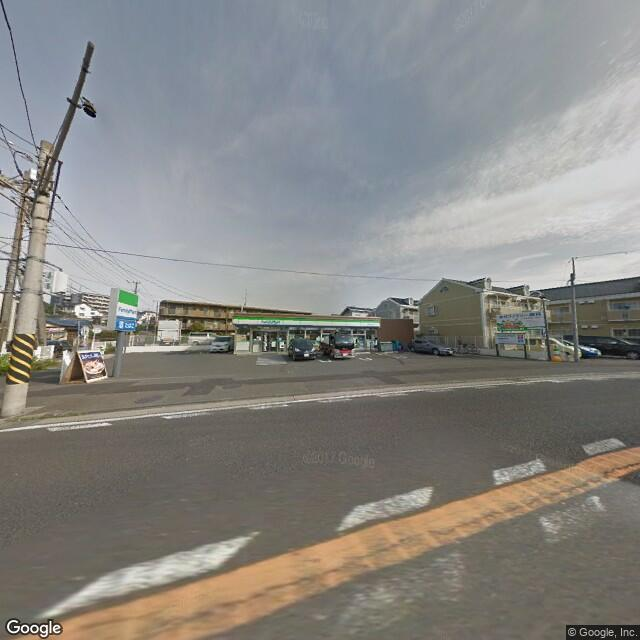family_mart: (232, 315, 384, 329), (114, 286, 139, 326)
